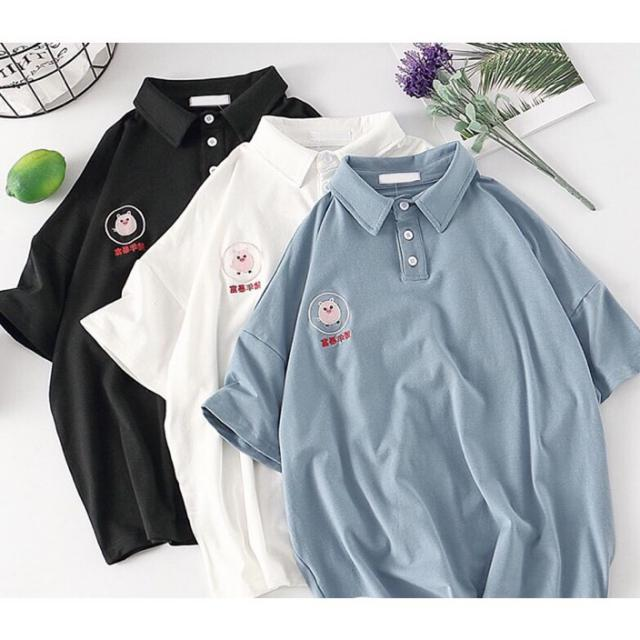Shirt: (205, 158, 632, 606)
